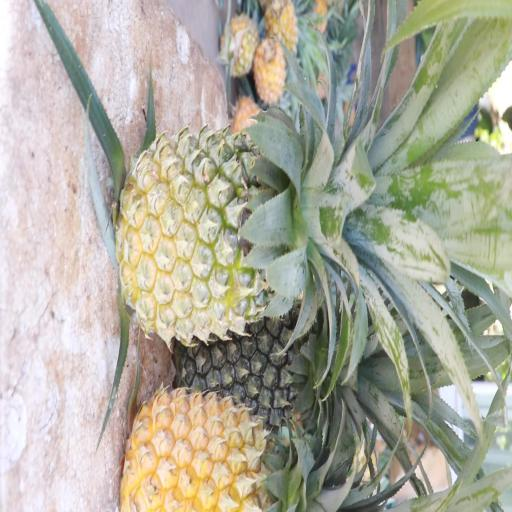------------------------------: (124, 137, 328, 338)
Pineapple - v8 v1: (125, 387, 318, 512), (251, 34, 289, 104)
